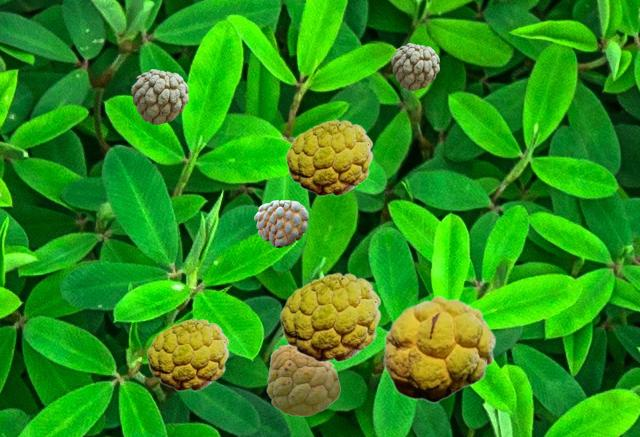atis: (382, 295, 495, 402), (279, 272, 380, 361), (285, 119, 372, 195), (146, 318, 228, 390), (266, 344, 339, 415), (131, 69, 187, 123), (254, 200, 307, 246), (391, 43, 438, 89)
